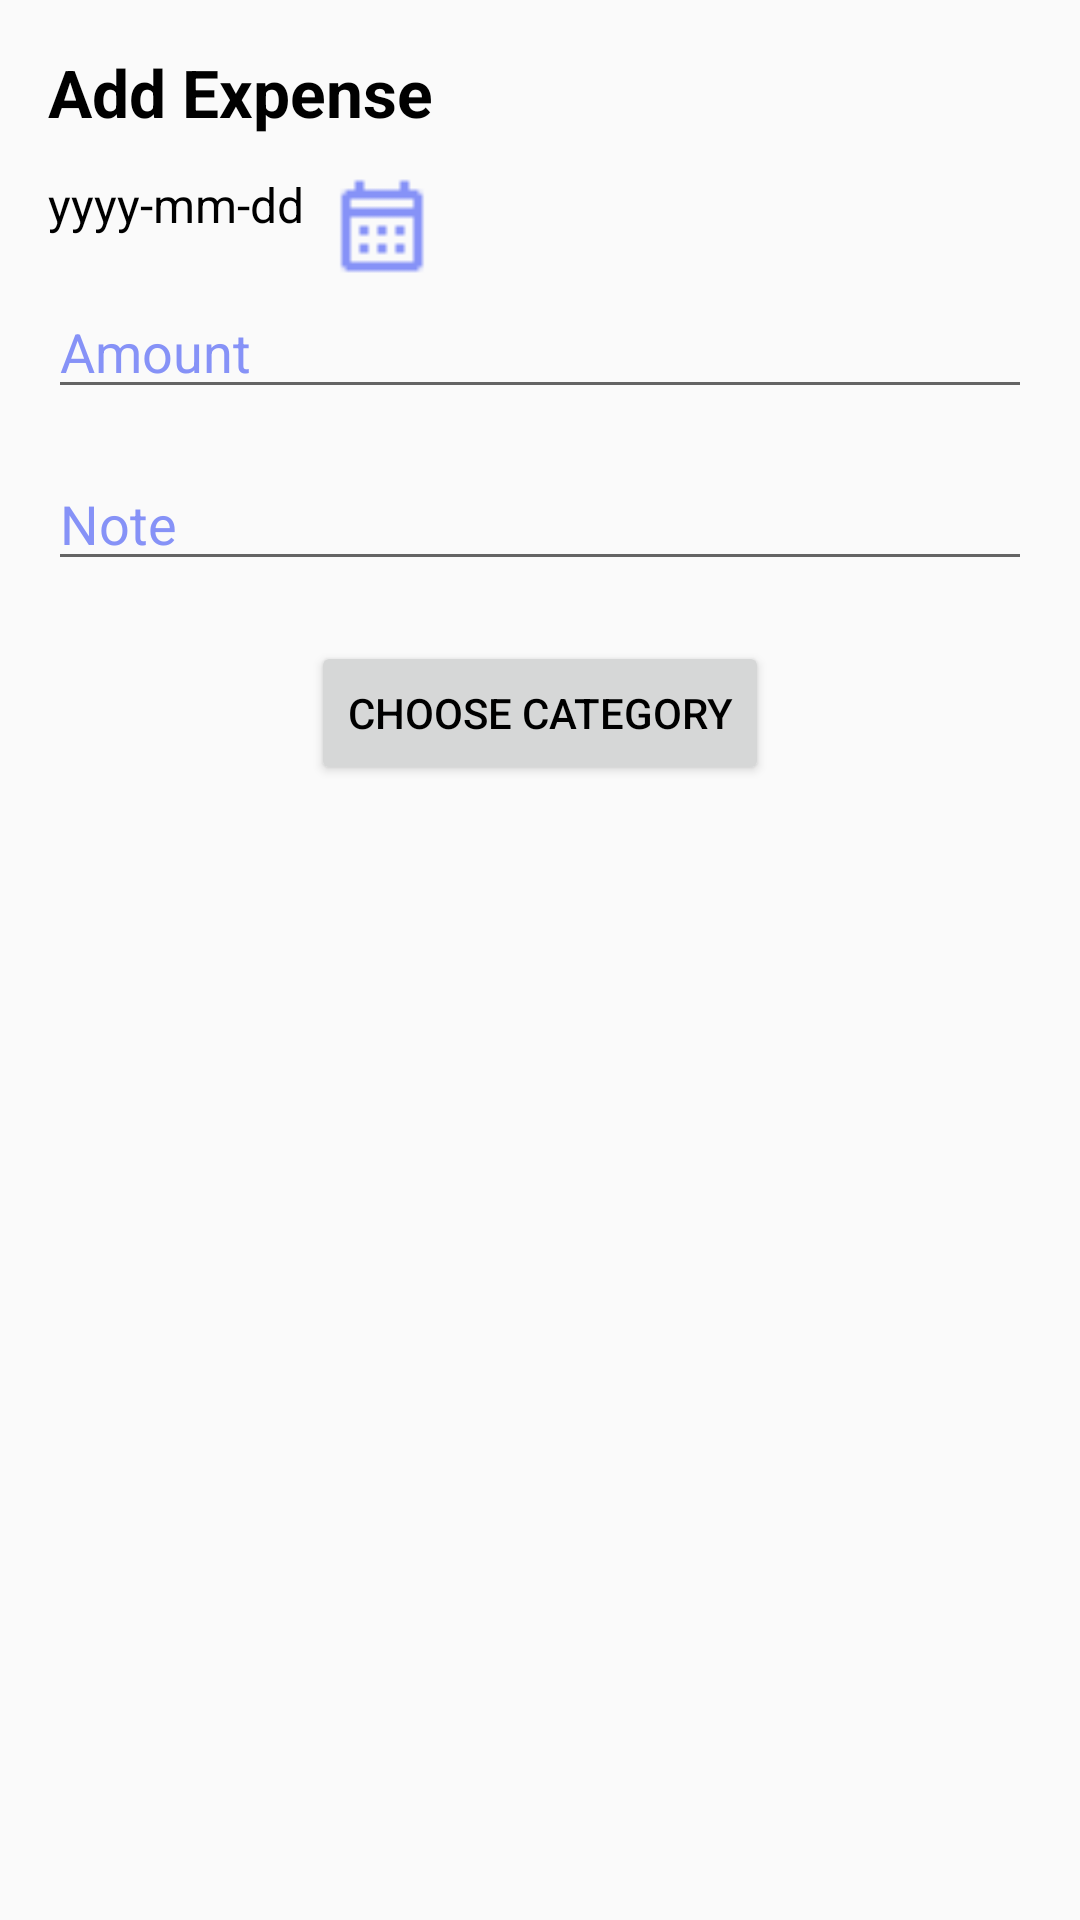

Named icons in this screenshot (1080x1920) and their bounding boxes, (x1, y1, x2, y2):
calendar: (340, 180, 424, 272)
